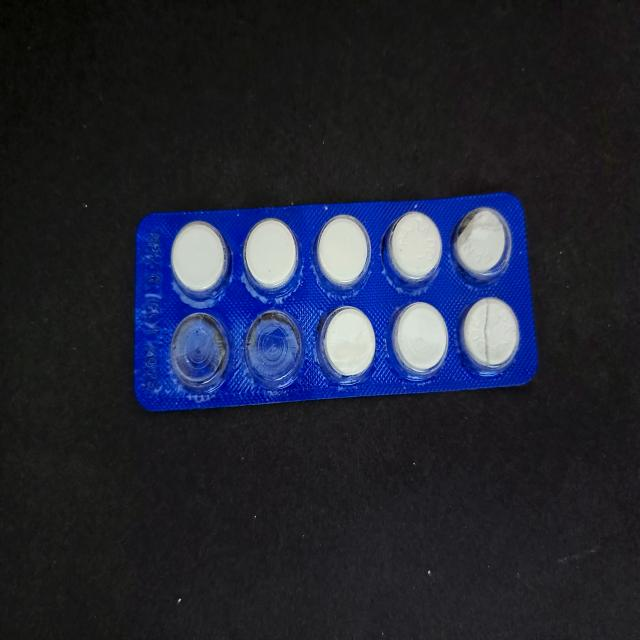defect: (456, 293, 523, 379), (168, 309, 232, 395), (242, 306, 306, 392), (449, 205, 515, 286)
